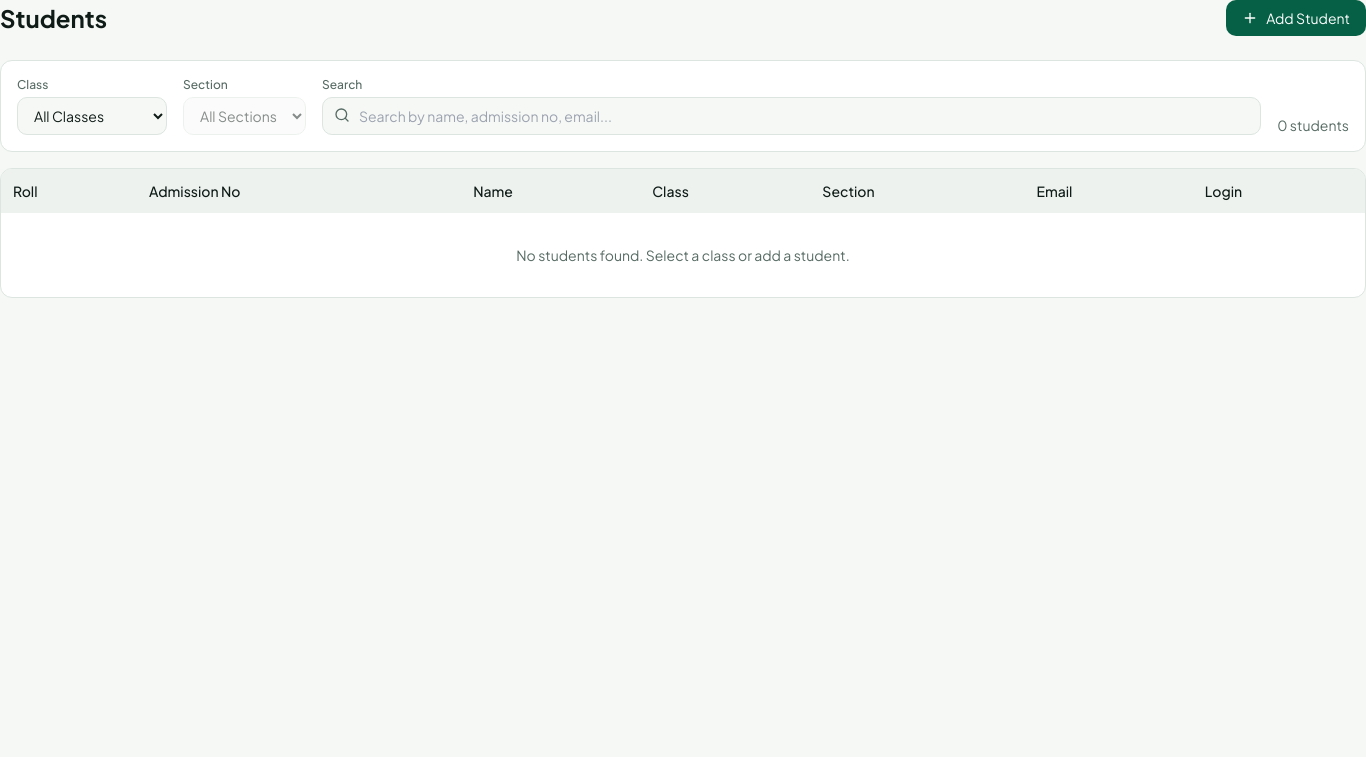
Test: the student form says what is missing › points to Classes & Sections when there is no class and no session
Click the button "Add Student" at (1296, 18), box [1226,0,1365,36]
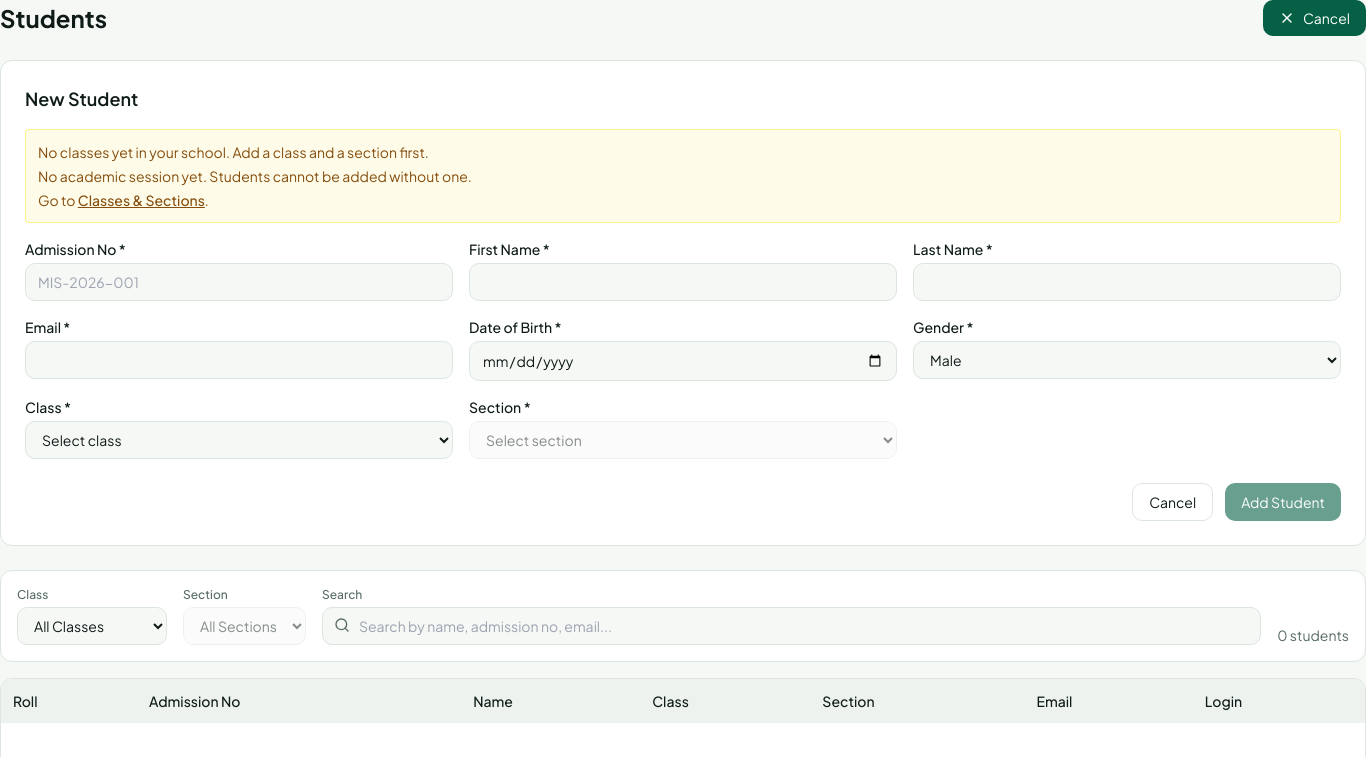
expect the button "Add Student" is disabled: met, box [1225,483,1341,521]
expect the text "No classes yet" is shown: met, box [38,143,429,161]
expect the text "No academic session yet" is shown: met, box [38,167,472,185]
